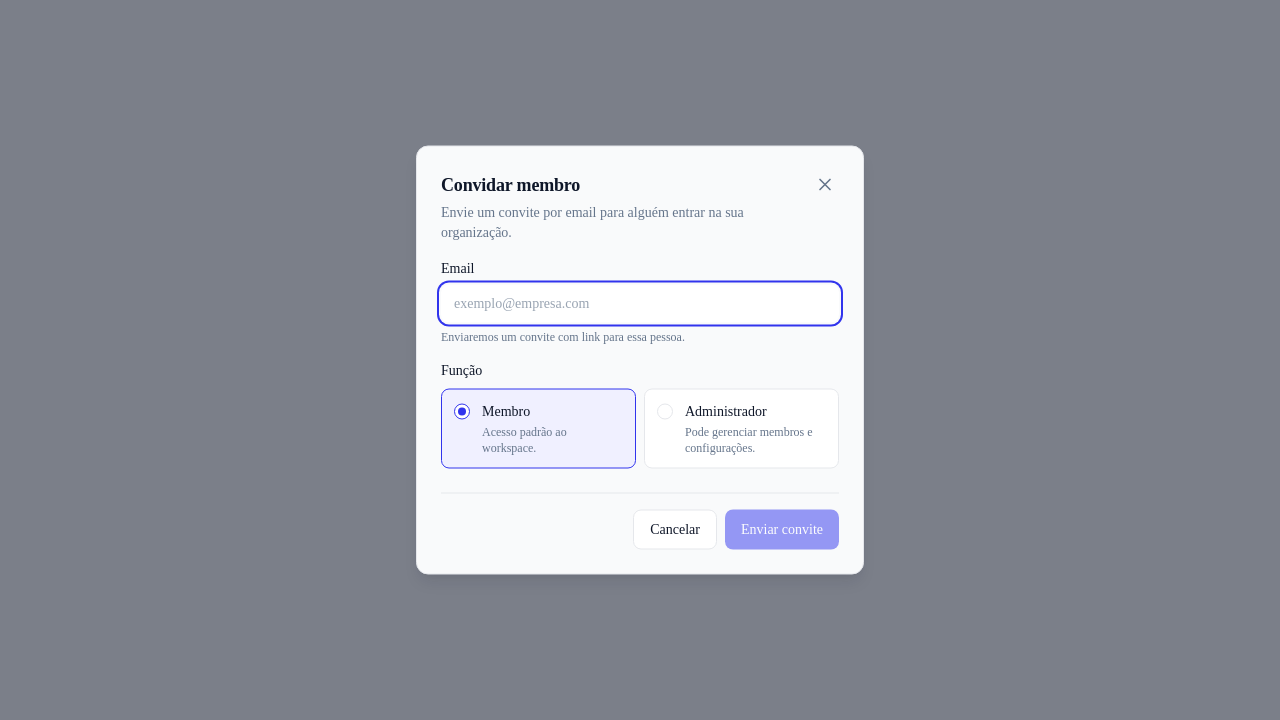
it: InviteModal — server error mapping › maps invitation_already_member to an inline field error
The image size is (1280, 720).
In the field labelled "Email": x=640, y=304 [441,284,839,322], type "bruno@acme.com"
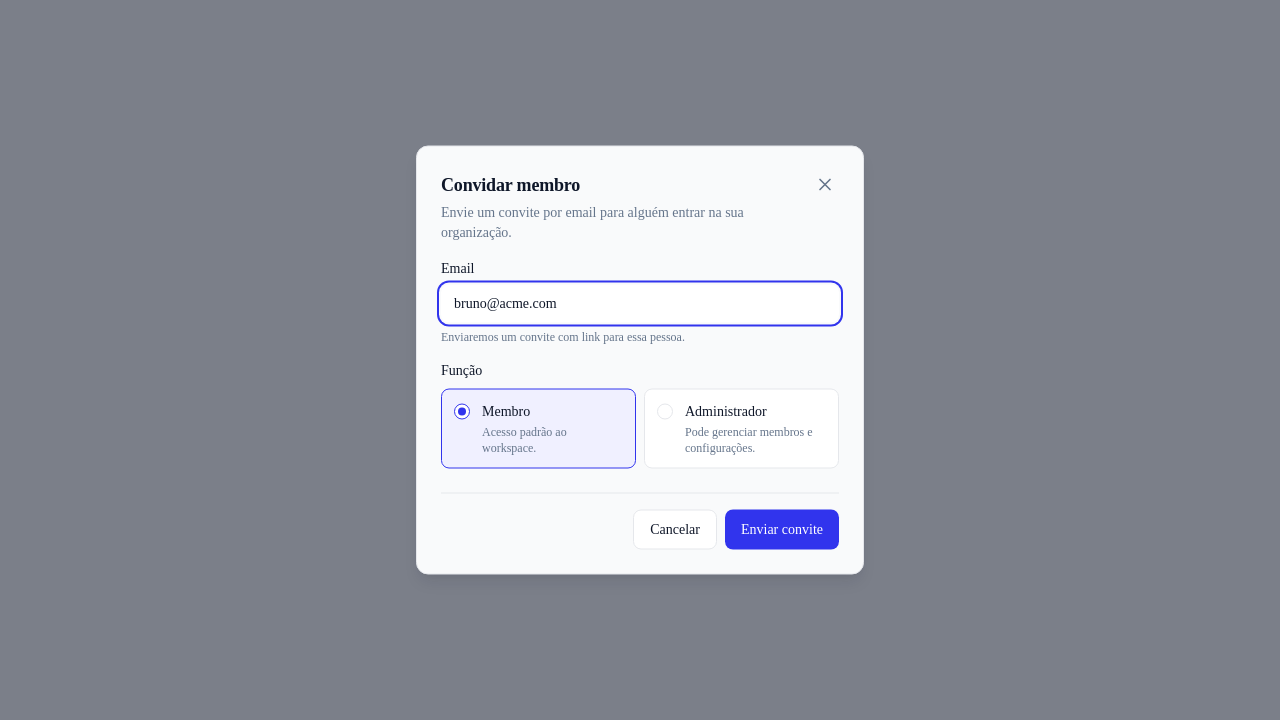
Click the button "Enviar convite": x=782, y=530 [725,510,839,550]
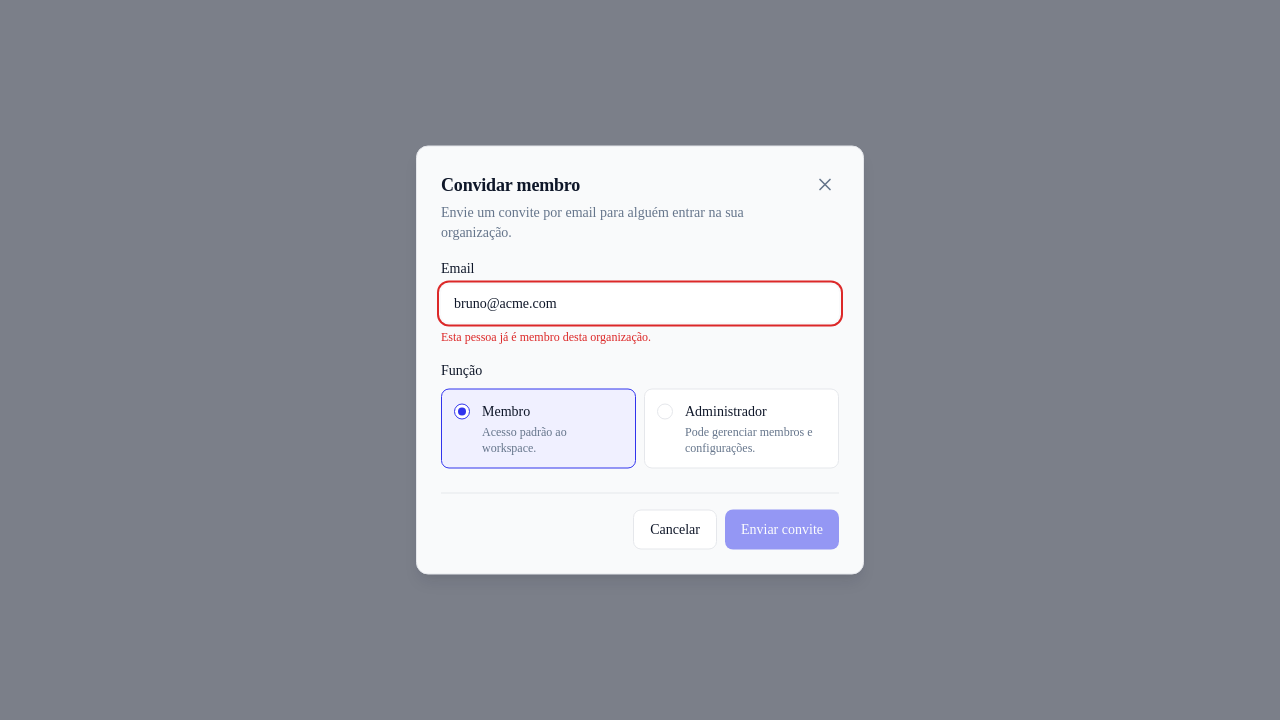
Expected: the text "Esta pessoa já é membro desta organização." is shown, [441,330,651,344]
